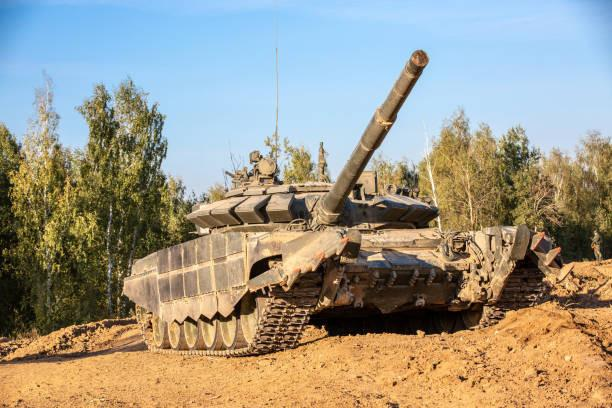tank: (123, 48, 548, 355)
